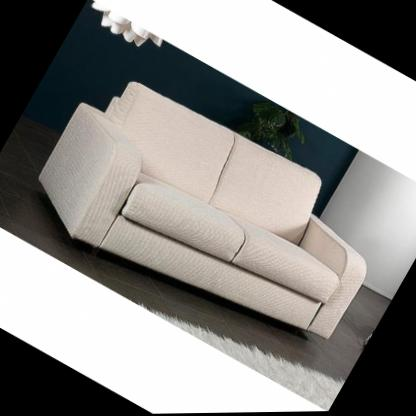Sofa: (16, 50, 398, 378)
